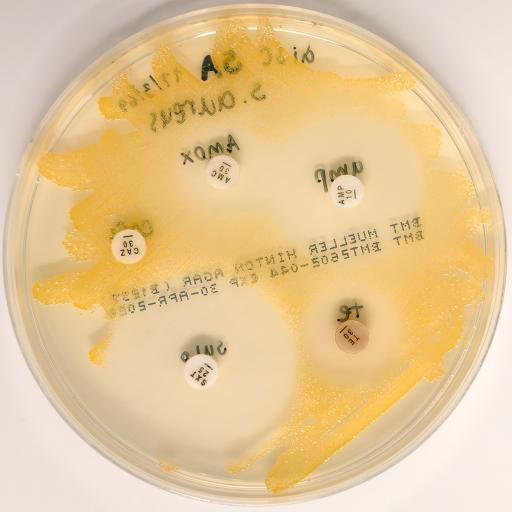disc: (329, 174, 363, 210), (184, 354, 218, 390), (205, 154, 239, 189), (111, 229, 146, 263), (334, 320, 368, 354)
